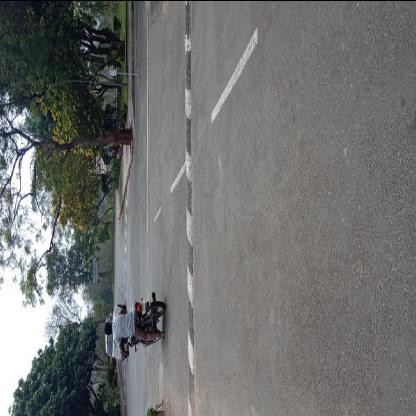speed-bumps: (175, 1, 200, 415)
